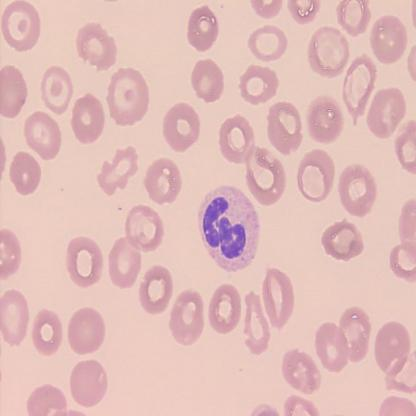Segmented neutrophil: (196, 183, 262, 275)
